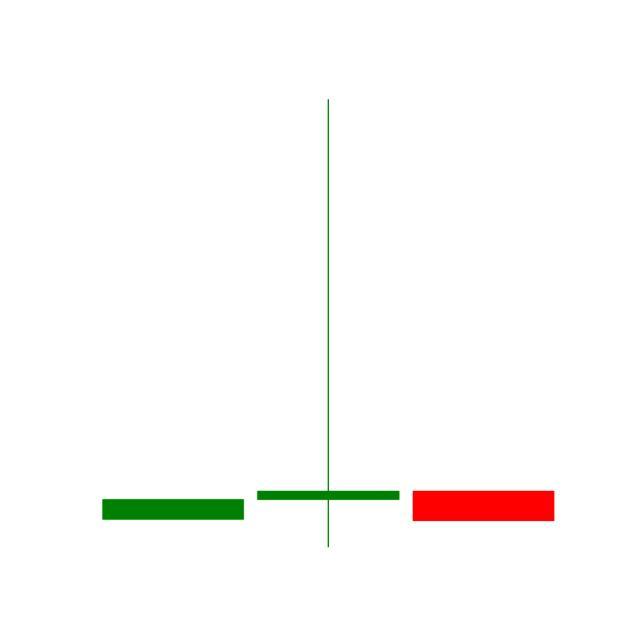Four price doji: (412, 490, 555, 522), (101, 497, 246, 523)
